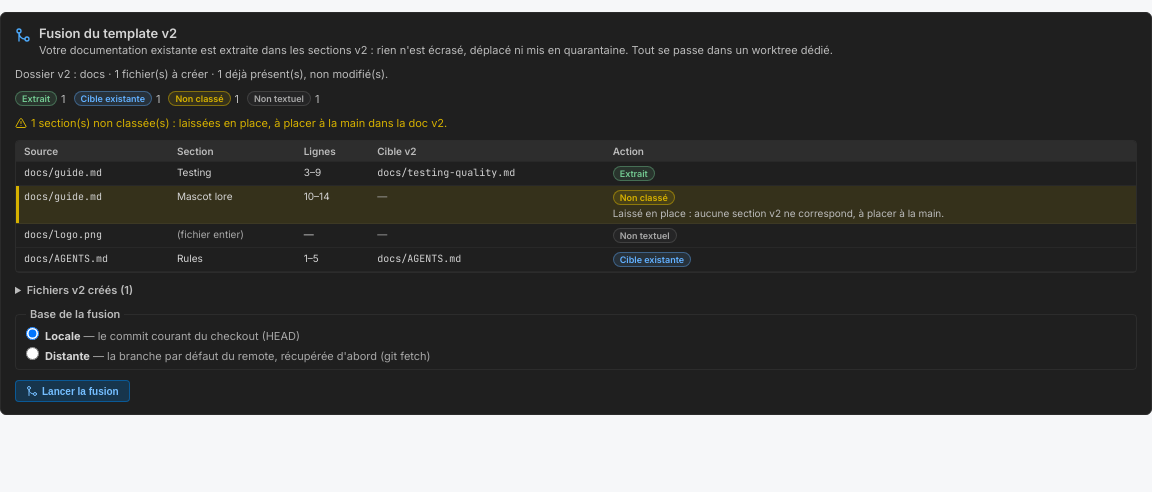
TemplateMergePanel — result › accepts every file with "Tout accepter"
Step 1. Click the button with test id "template-merge-launch" → (72, 391), box [15,380,130,402]
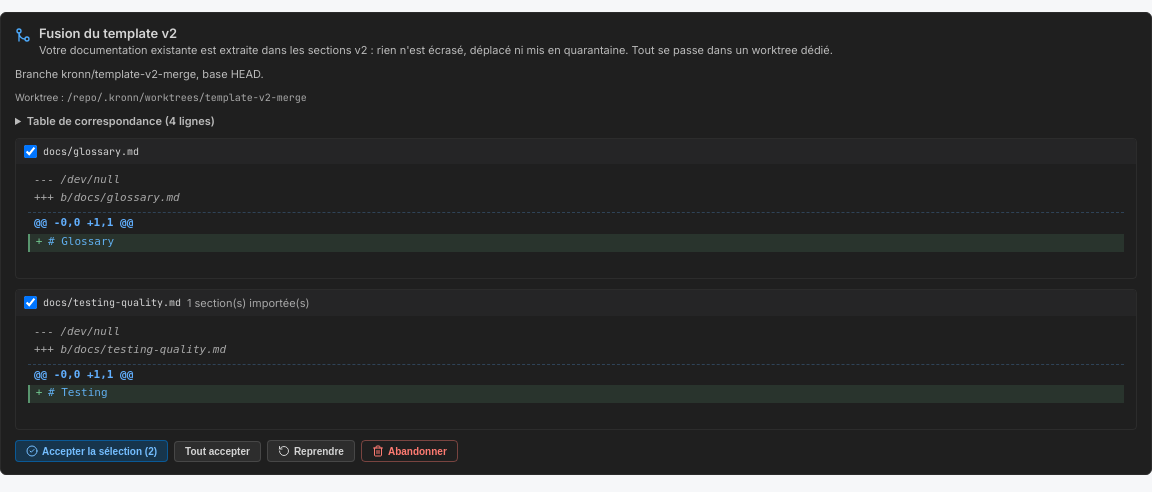
Step 2. Click the button with test id "template-merge-accept-all" → (217, 451), box [174,440,261,462]
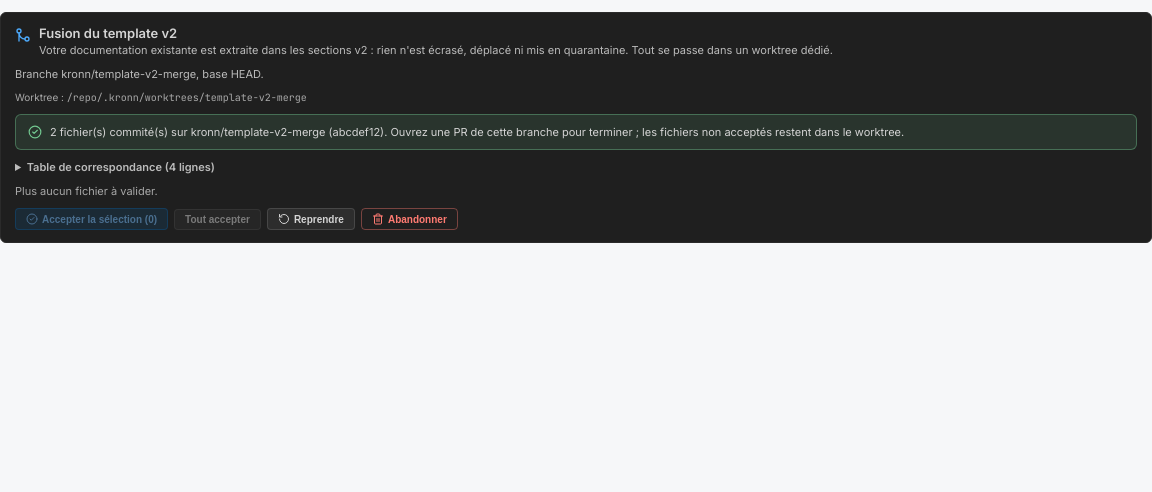
Expected: the message with test id "template-merge-accepted" is shown, [15,114,1137,150]
Expected: the text "Plus aucun fichier à valider." is shown, [15,184,158,198]
